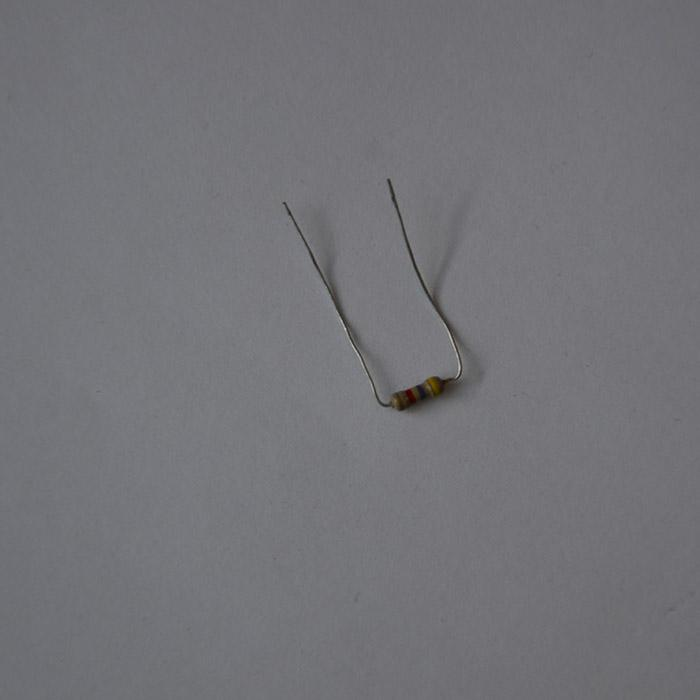resistor: (390, 374, 447, 412)
